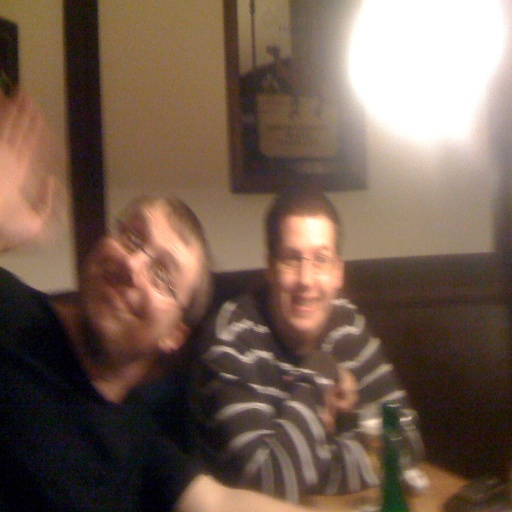hand: (3, 84, 72, 270), (320, 368, 360, 435)
